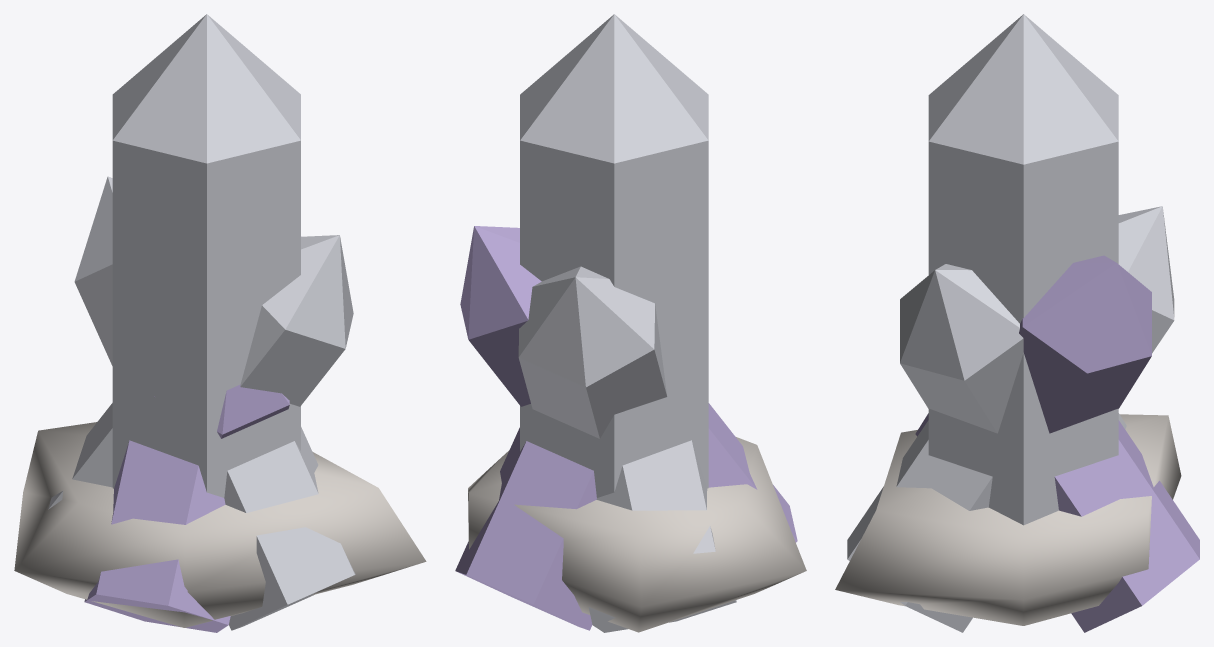
Rendered from col_stone_starglass.gltf.
3 renders of one model, left to right at view 1: azimuth 30°, elevation 25°; view 2: azimuth 150°, elevation 25°; view 3: azimuth 270°, elevation 25°, orthographic.
Parts seen in each view (by area): view 1: col_stone_starglass; view 2: col_stone_starglass; view 3: col_stone_starglass.
Part boxes in pixels (x1,y1,x2,y2): col_stone_starglass: (14, 14, 426, 632); col_stone_starglass: (455, 14, 806, 632); col_stone_starglass: (835, 14, 1199, 632).
Size of what is drawn, in the model's own units: 0.0791 by 0.1321 by 0.0732.
